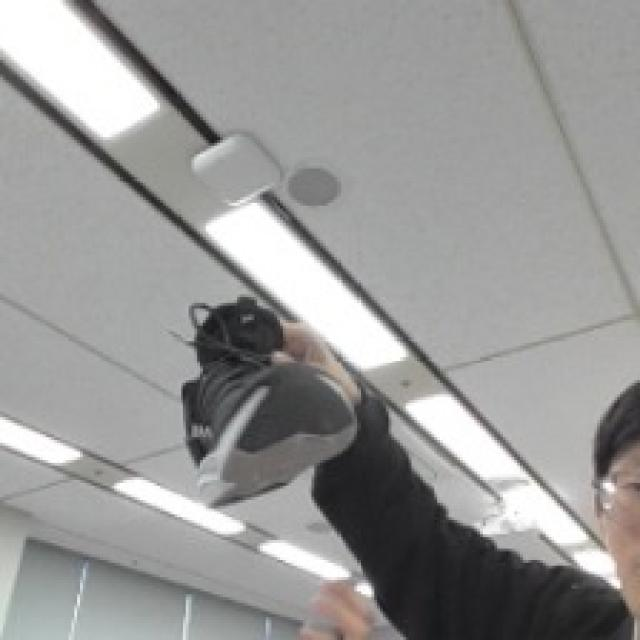shoe: (140, 291, 372, 520)
